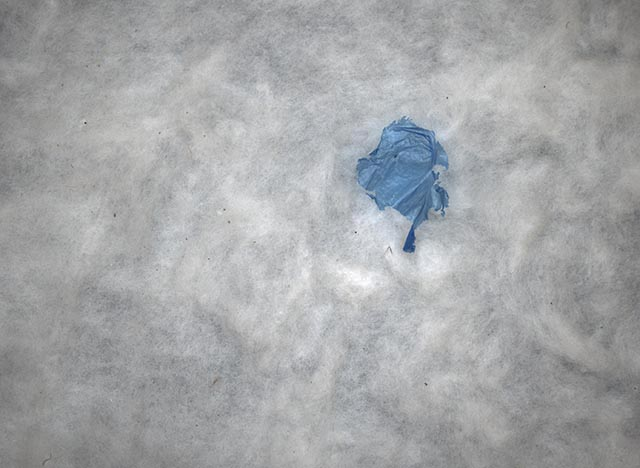plastic film: (355, 115, 450, 253)
